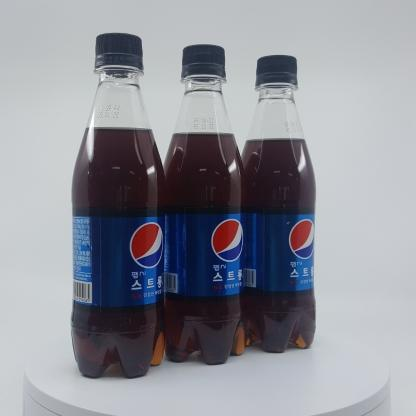-------400ML: (70, 33, 165, 378), (157, 44, 247, 365), (234, 55, 316, 353)
